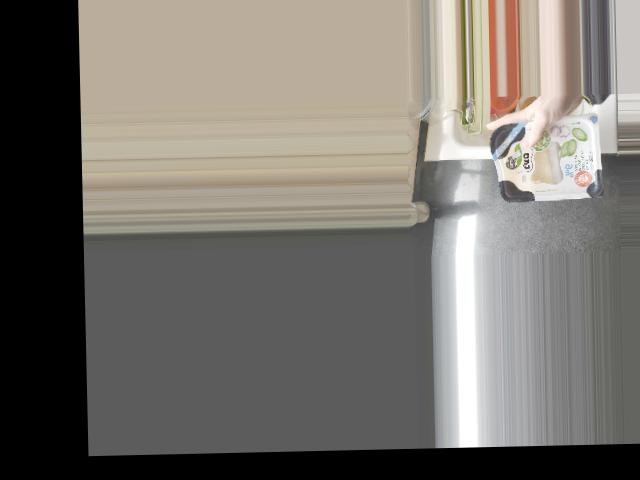cheese: (489, 113, 599, 201)
